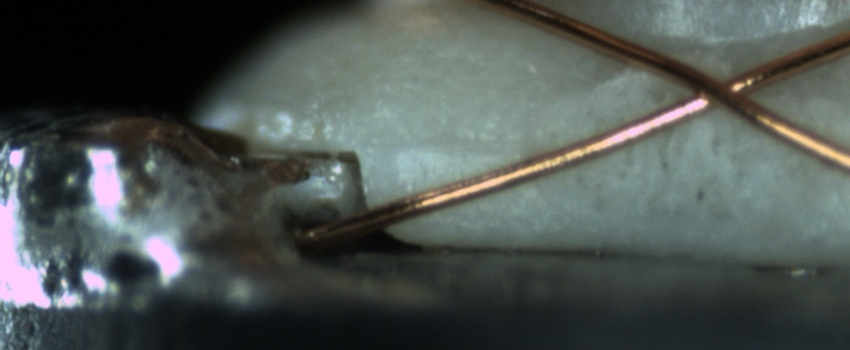CL: (657, 54, 784, 124)
DL: (406, 114, 540, 177)
